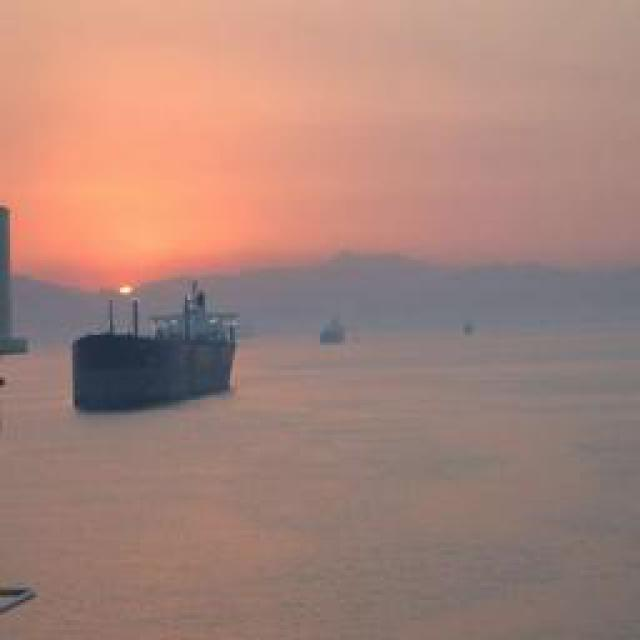Ship: (75, 281, 240, 409)
